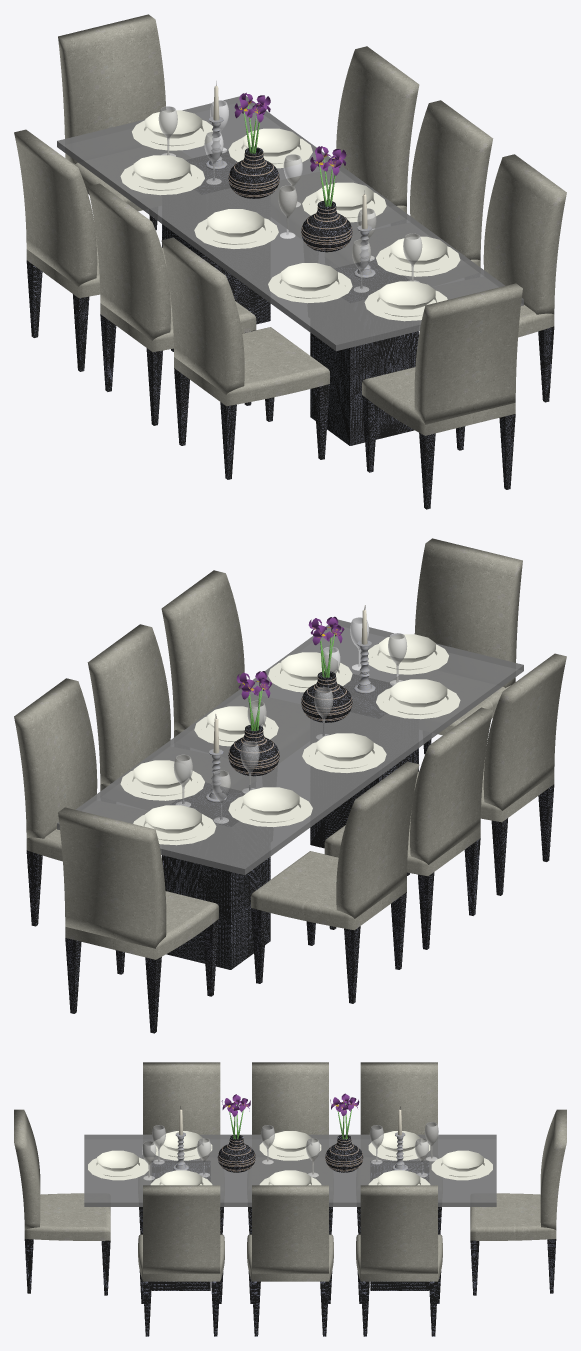
3 views of the same model, one above another, from view 1: azimuth 30°, elevation 25°; view 2: azimuth 150°, elevation 25°; view 3: azimuth 270°, elevation 25° (orthographic). The views are drawn at different scales.
Visible parts, largest first — view 1: Group_3 (×8), Group_47 (×3), Dishes_Bowl_5in_1 (×8), Group_1 (×11); view 2: Group_3 (×8), Group_47 (×3), Dishes_Bowl_5in_1 (×8), Group_1 (×11); view 3: Group_3 (×8), Group_47 (×3), Dishes_Bowl_5in_1 (×8), Group_1 (×10).
Part boxes in pixels (<box>): Group_3 (×8): <box>14,14,566,435</box>; Group_47 (×3): <box>57,96,523,445</box>; Dishes_Bowl_5in_1 (×8): <box>133,110,447,309</box>; Group_1 (×11): <box>26,260,554,509</box>; Group_3 (×8): <box>14,538,566,959</box>; Group_47 (×3): <box>57,619,523,969</box>; Dishes_Bowl_5in_1 (×8): <box>133,634,447,833</box>; Group_1 (×11): <box>26,784,554,1033</box>; Group_3 (×8): <box>14,1062,566,1281</box>; Group_47 (×3): <box>84,1134,496,1290</box>; Dishes_Bowl_5in_1 (×8): <box>97,1131,483,1185</box>; Group_1 (×10): <box>24,1239,556,1336</box>.
Bounding box in the file's own units: 71.62 × 132 × 47.42.
17 materials, 3 textured.
